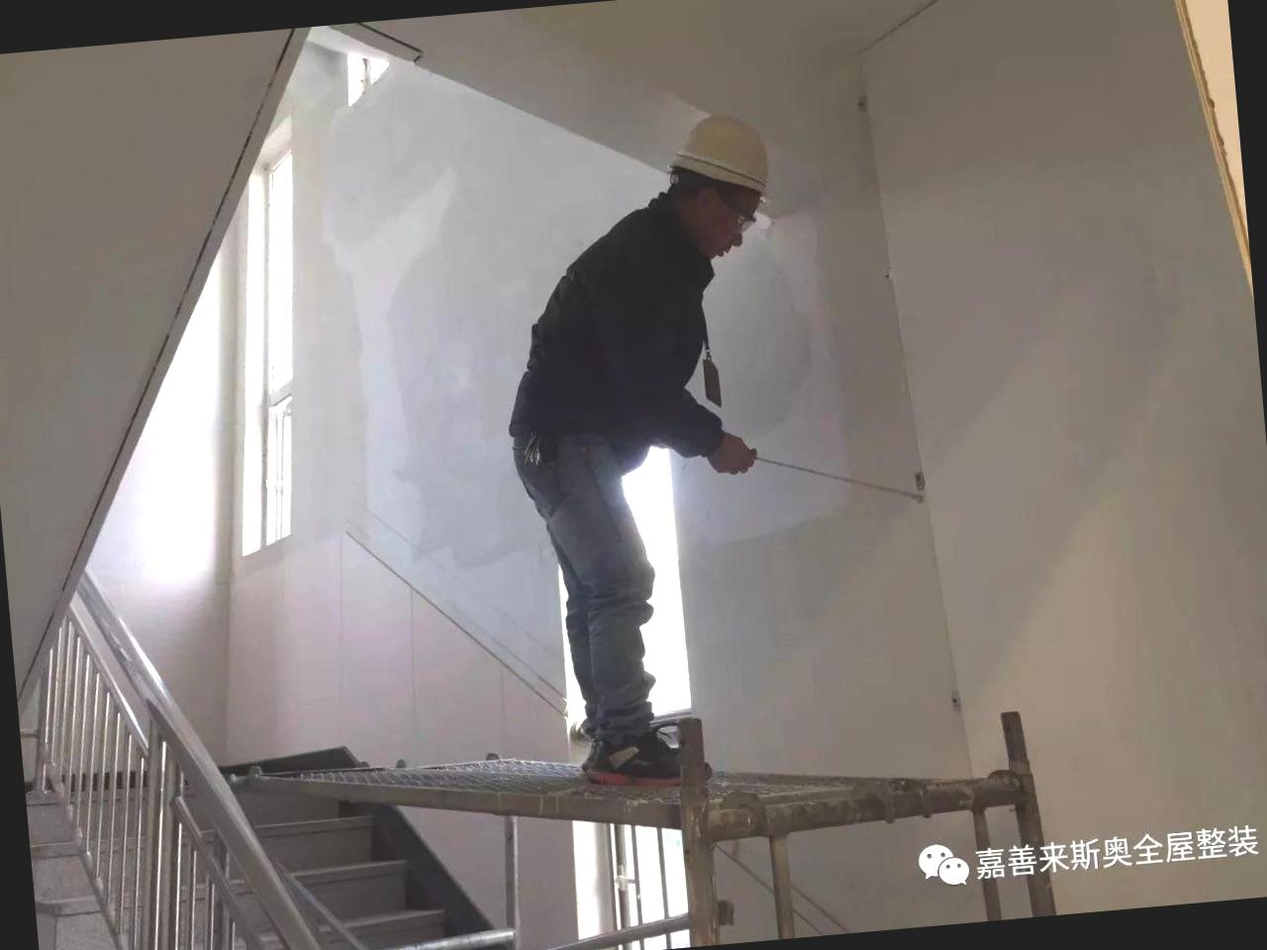helmet: (647, 100, 788, 217)
no_vest: (516, 217, 777, 509)
person: (463, 82, 848, 800)
